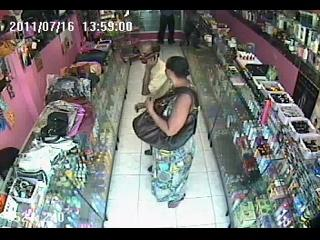Normal: (139, 55, 199, 202), (132, 109, 170, 149), (157, 10, 176, 44), (76, 50, 110, 66)
